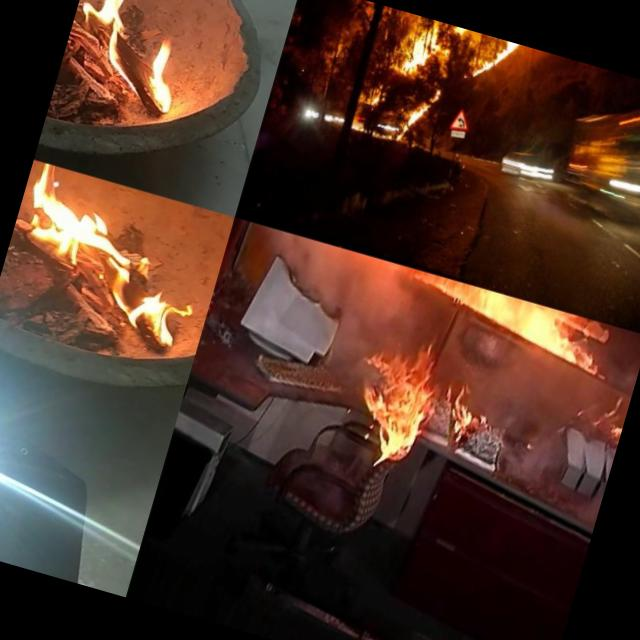fire: (0, 158, 219, 369), (51, 0, 210, 129), (435, 279, 611, 378), (356, 340, 454, 464), (388, 12, 465, 82), (464, 32, 542, 91), (392, 83, 442, 151), (597, 383, 633, 448)
smoke: (264, 235, 412, 384)
